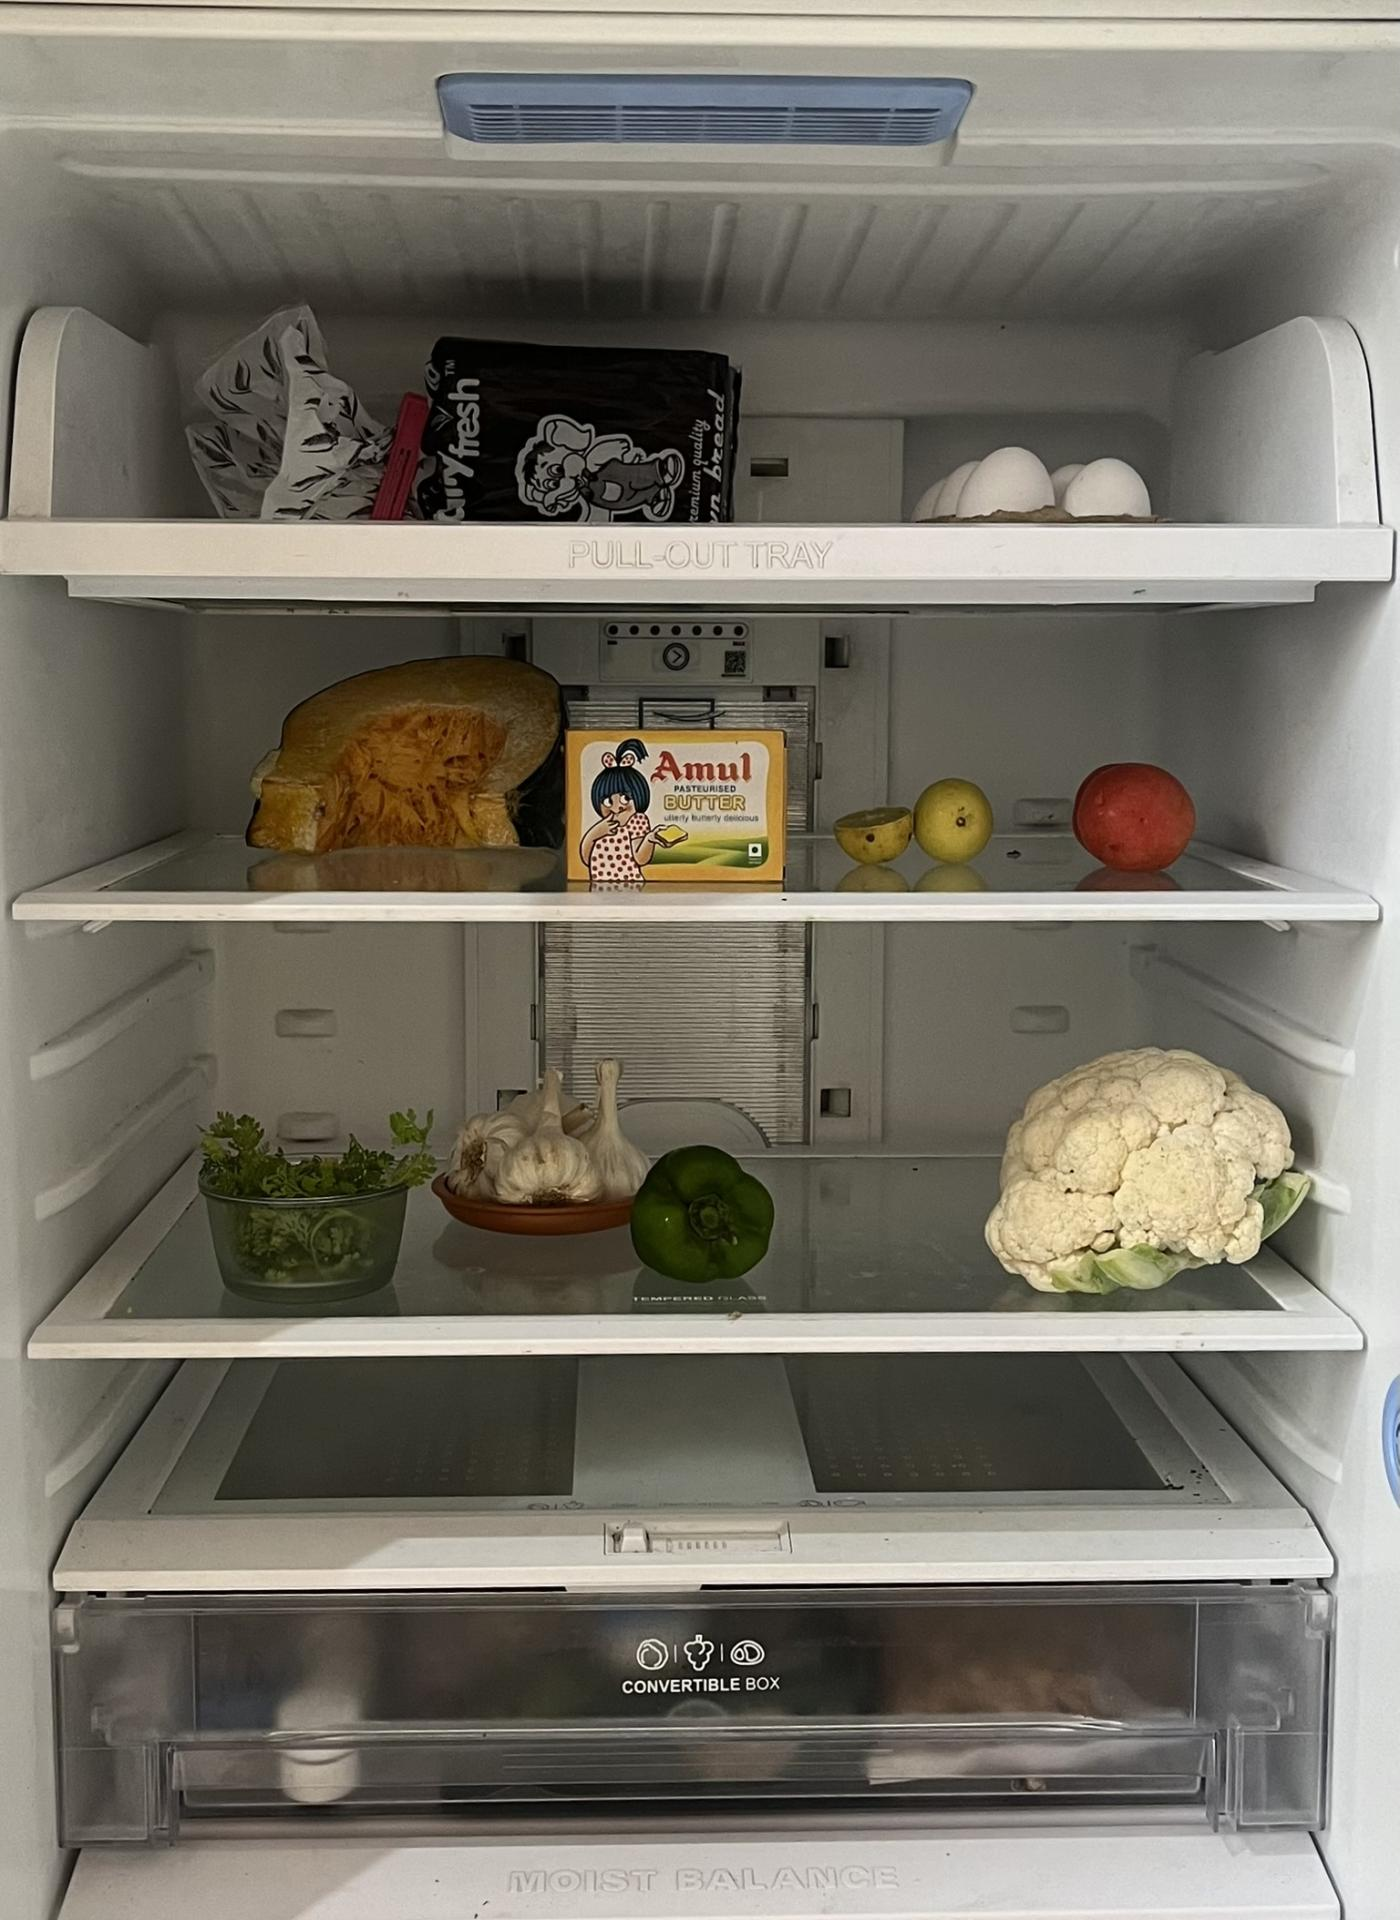bread: (216, 294, 741, 519)
butter: (565, 735, 790, 881)
capsicum: (632, 1149, 775, 1272)
cauliflower: (994, 1054, 1288, 1294)
egg: (914, 447, 1157, 519)
garlic: (447, 1052, 647, 1203)
lemon: (835, 775, 999, 869)
pumpkin: (252, 653, 562, 844)
tomato: (204, 1103, 395, 1275), (1069, 766, 1200, 875)
